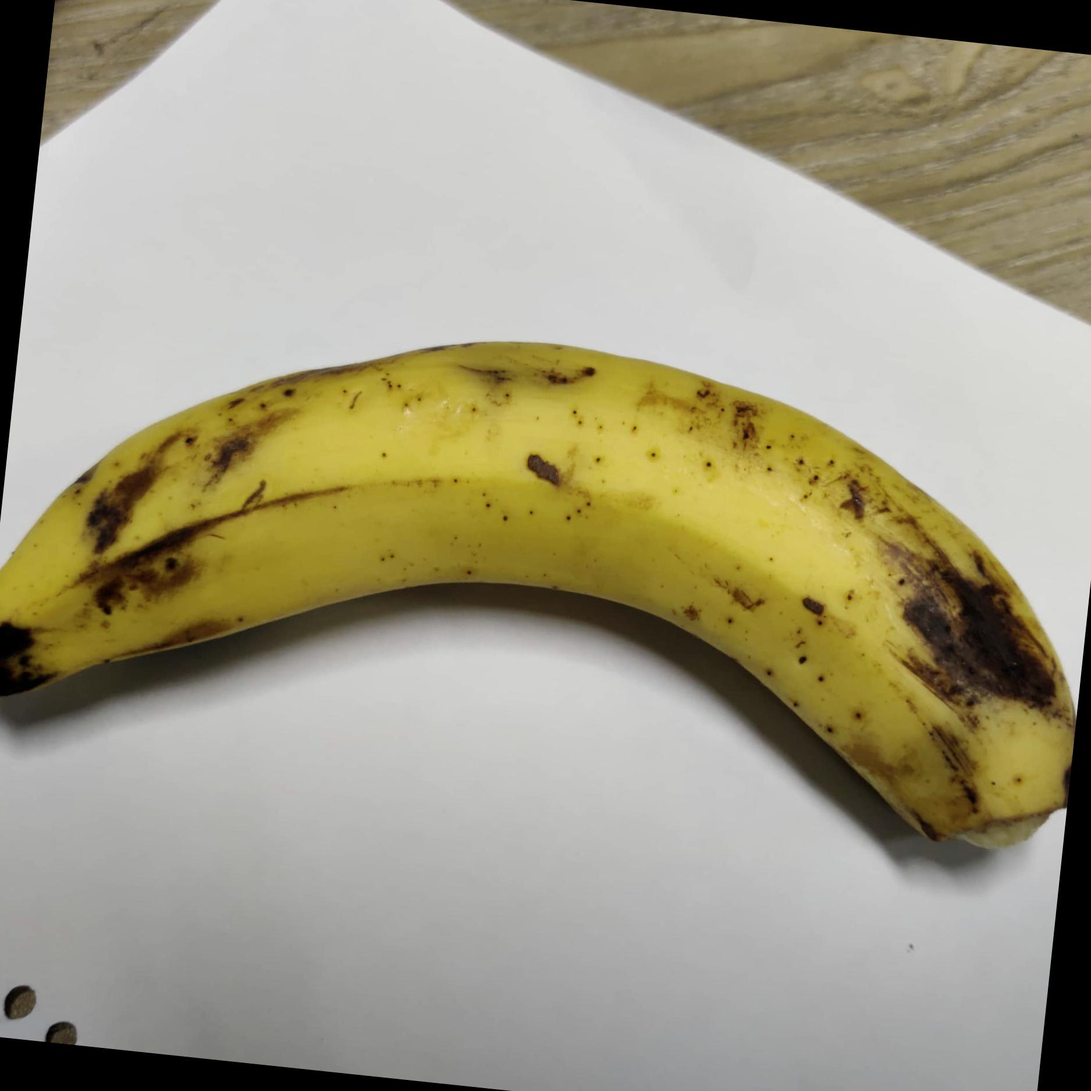Banana Ripe: (0, 264, 1091, 883)
